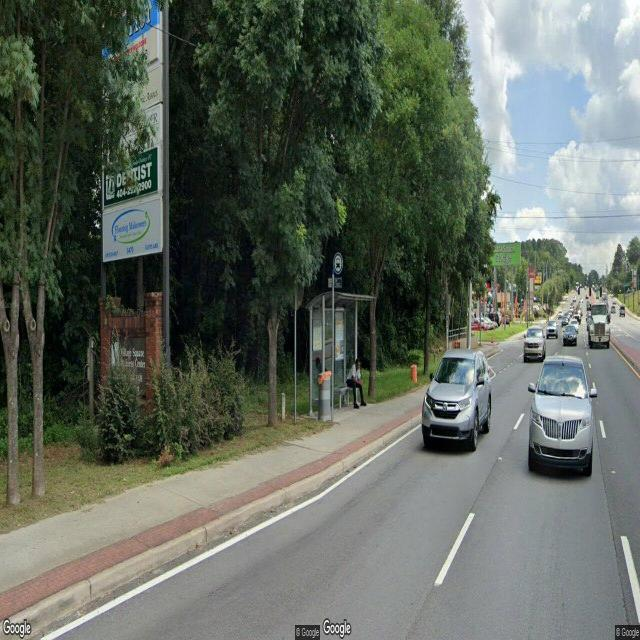seating: (336, 381, 362, 408)
shelter: (304, 292, 376, 418)
trash_can: (320, 374, 330, 421)
